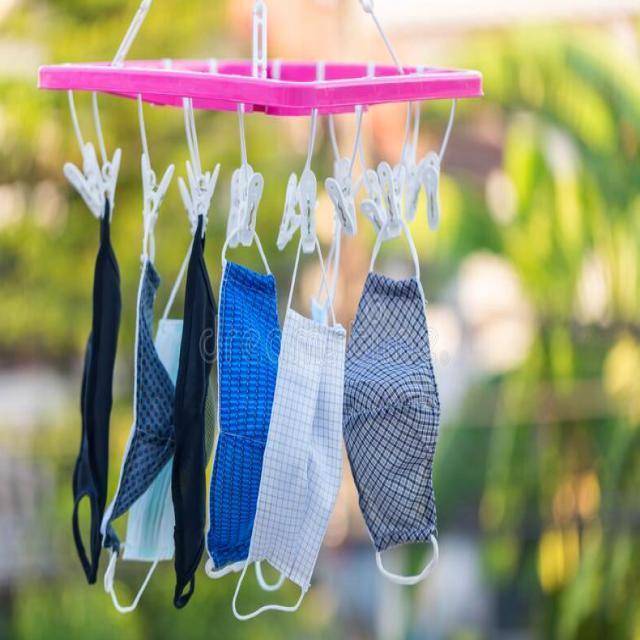clothes: (339, 252, 450, 552), (258, 298, 348, 599), (214, 265, 290, 576), (66, 186, 120, 614), (166, 225, 225, 592), (113, 233, 169, 587)
